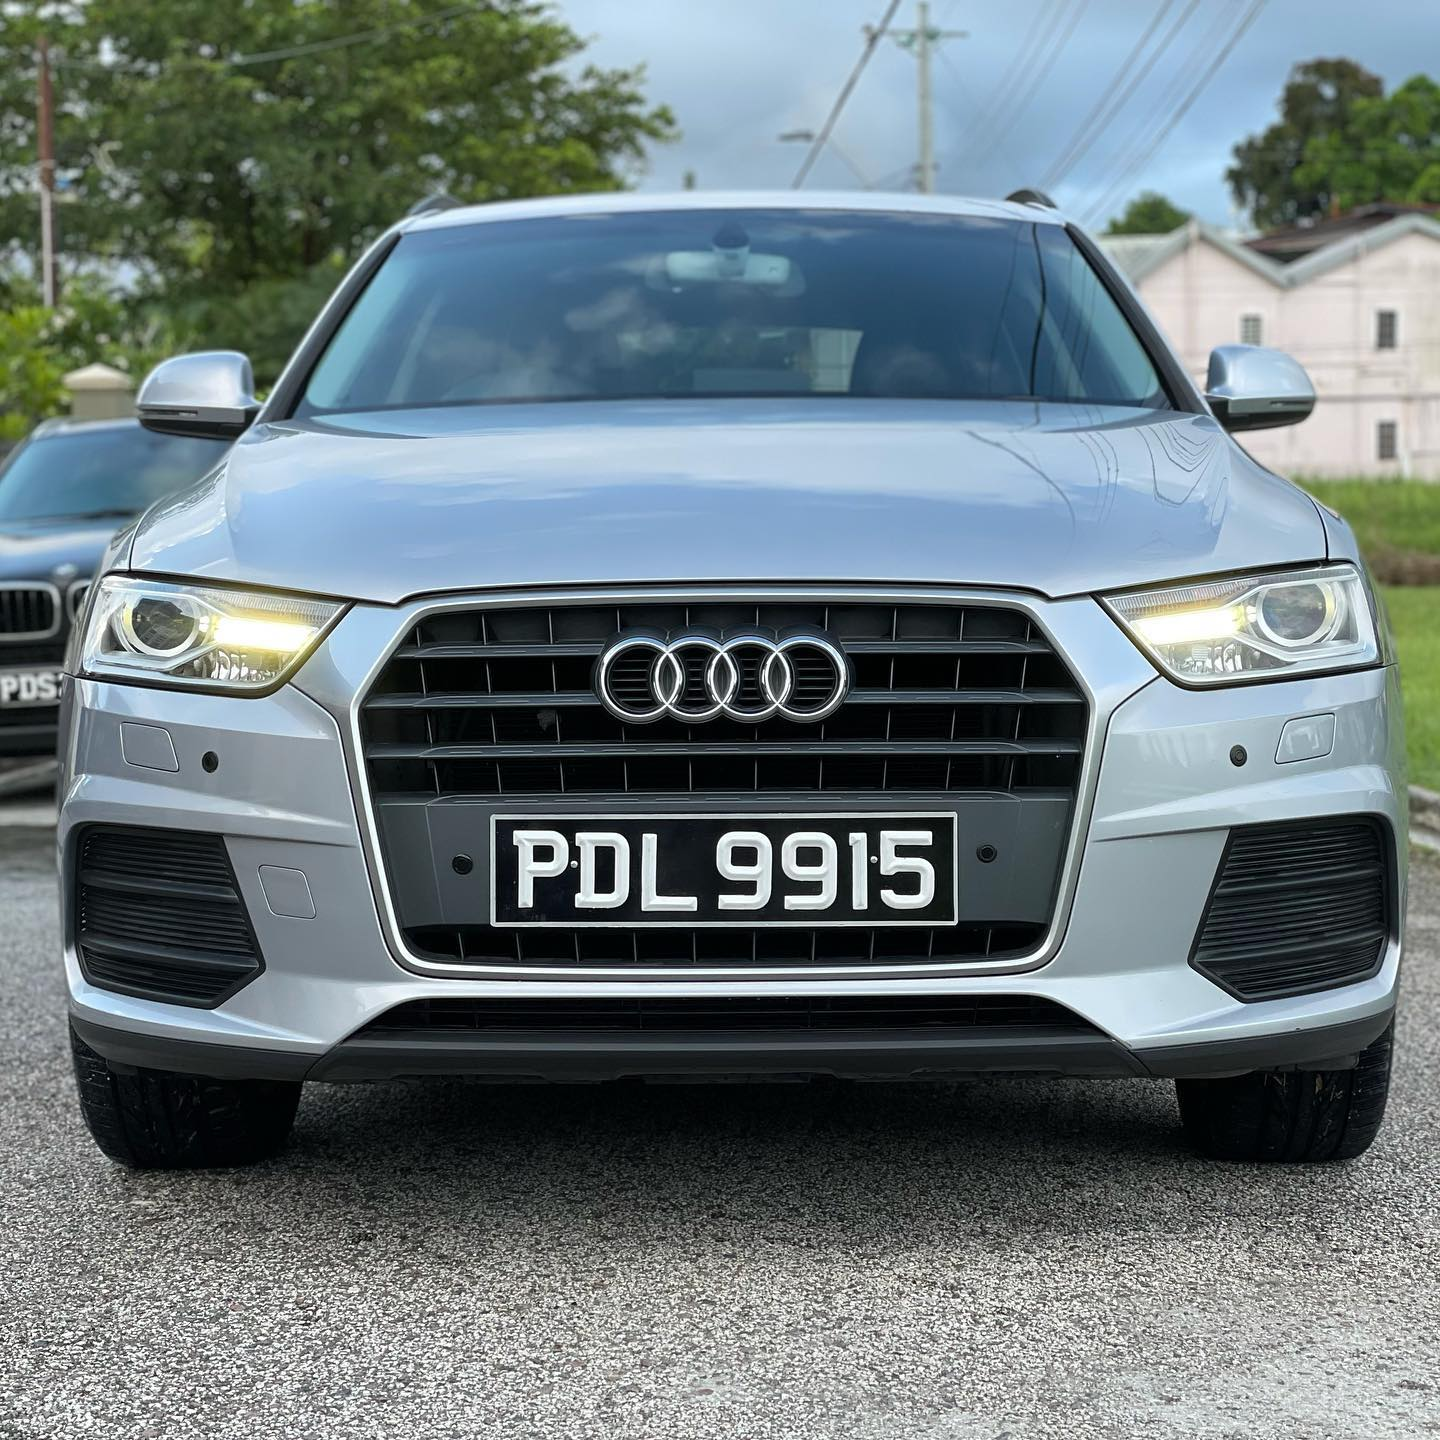License-Plate: (491, 814, 954, 925)
